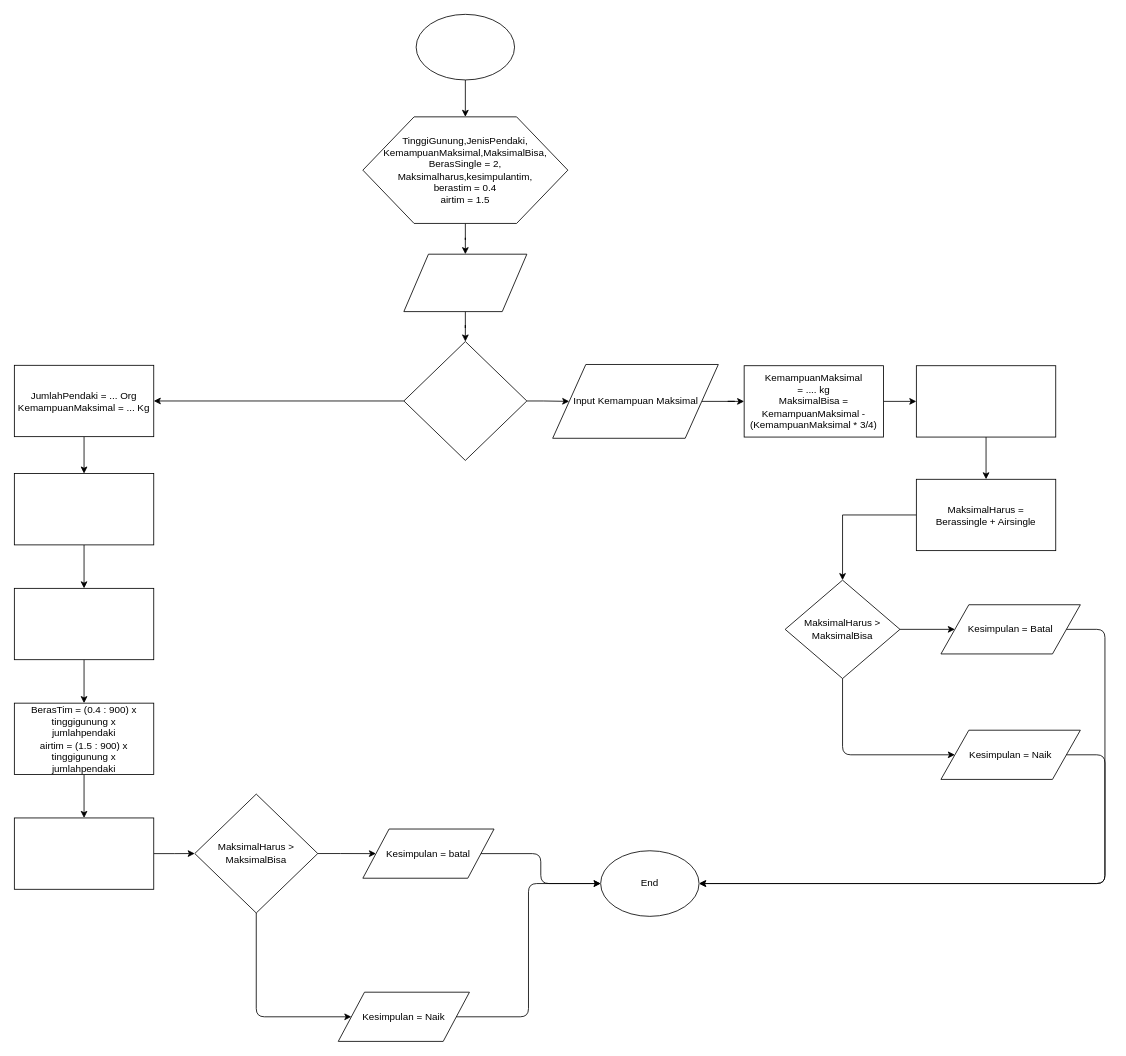
Image size: 1126x1056. Some labels were removed from this diagram. The box of each missing label's shape, as (x1, y1, x2, y2) in pixels:
Berassingle = ( 0.6 : 1000) x tinggiGunung AirSingle = (2:1000) x tinggigunung: (916, 365, 1056, 437)
Input tinggigunung, JenisPendaki: (403, 253, 527, 312)
Jenis Pendaki =: (403, 341, 527, 460)
KemampuanTim = JumlahPendaki x KemampuanMaksimal: (14, 473, 154, 545)
MaksimalBisa = KemampuanTimm - (Kemampuantim * 0.5): (14, 588, 154, 660)
MaksimalHarus = Berastim + airtim: (14, 817, 154, 889)
Start: (415, 14, 515, 80)
